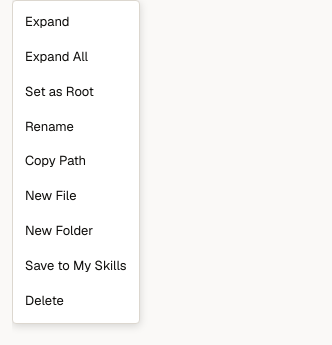
Test: ContextMenu › opens inline folder-create inputs for the folder context action
The image size is (332, 345).
Click the button with test id "new-folder".
click(76, 232)  # box [13,214,139,249]
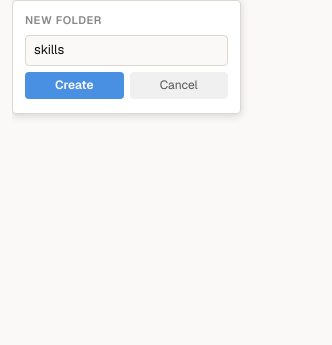
Now the field with test id "create-folder-input" is shown, box [25,35,228,66]
